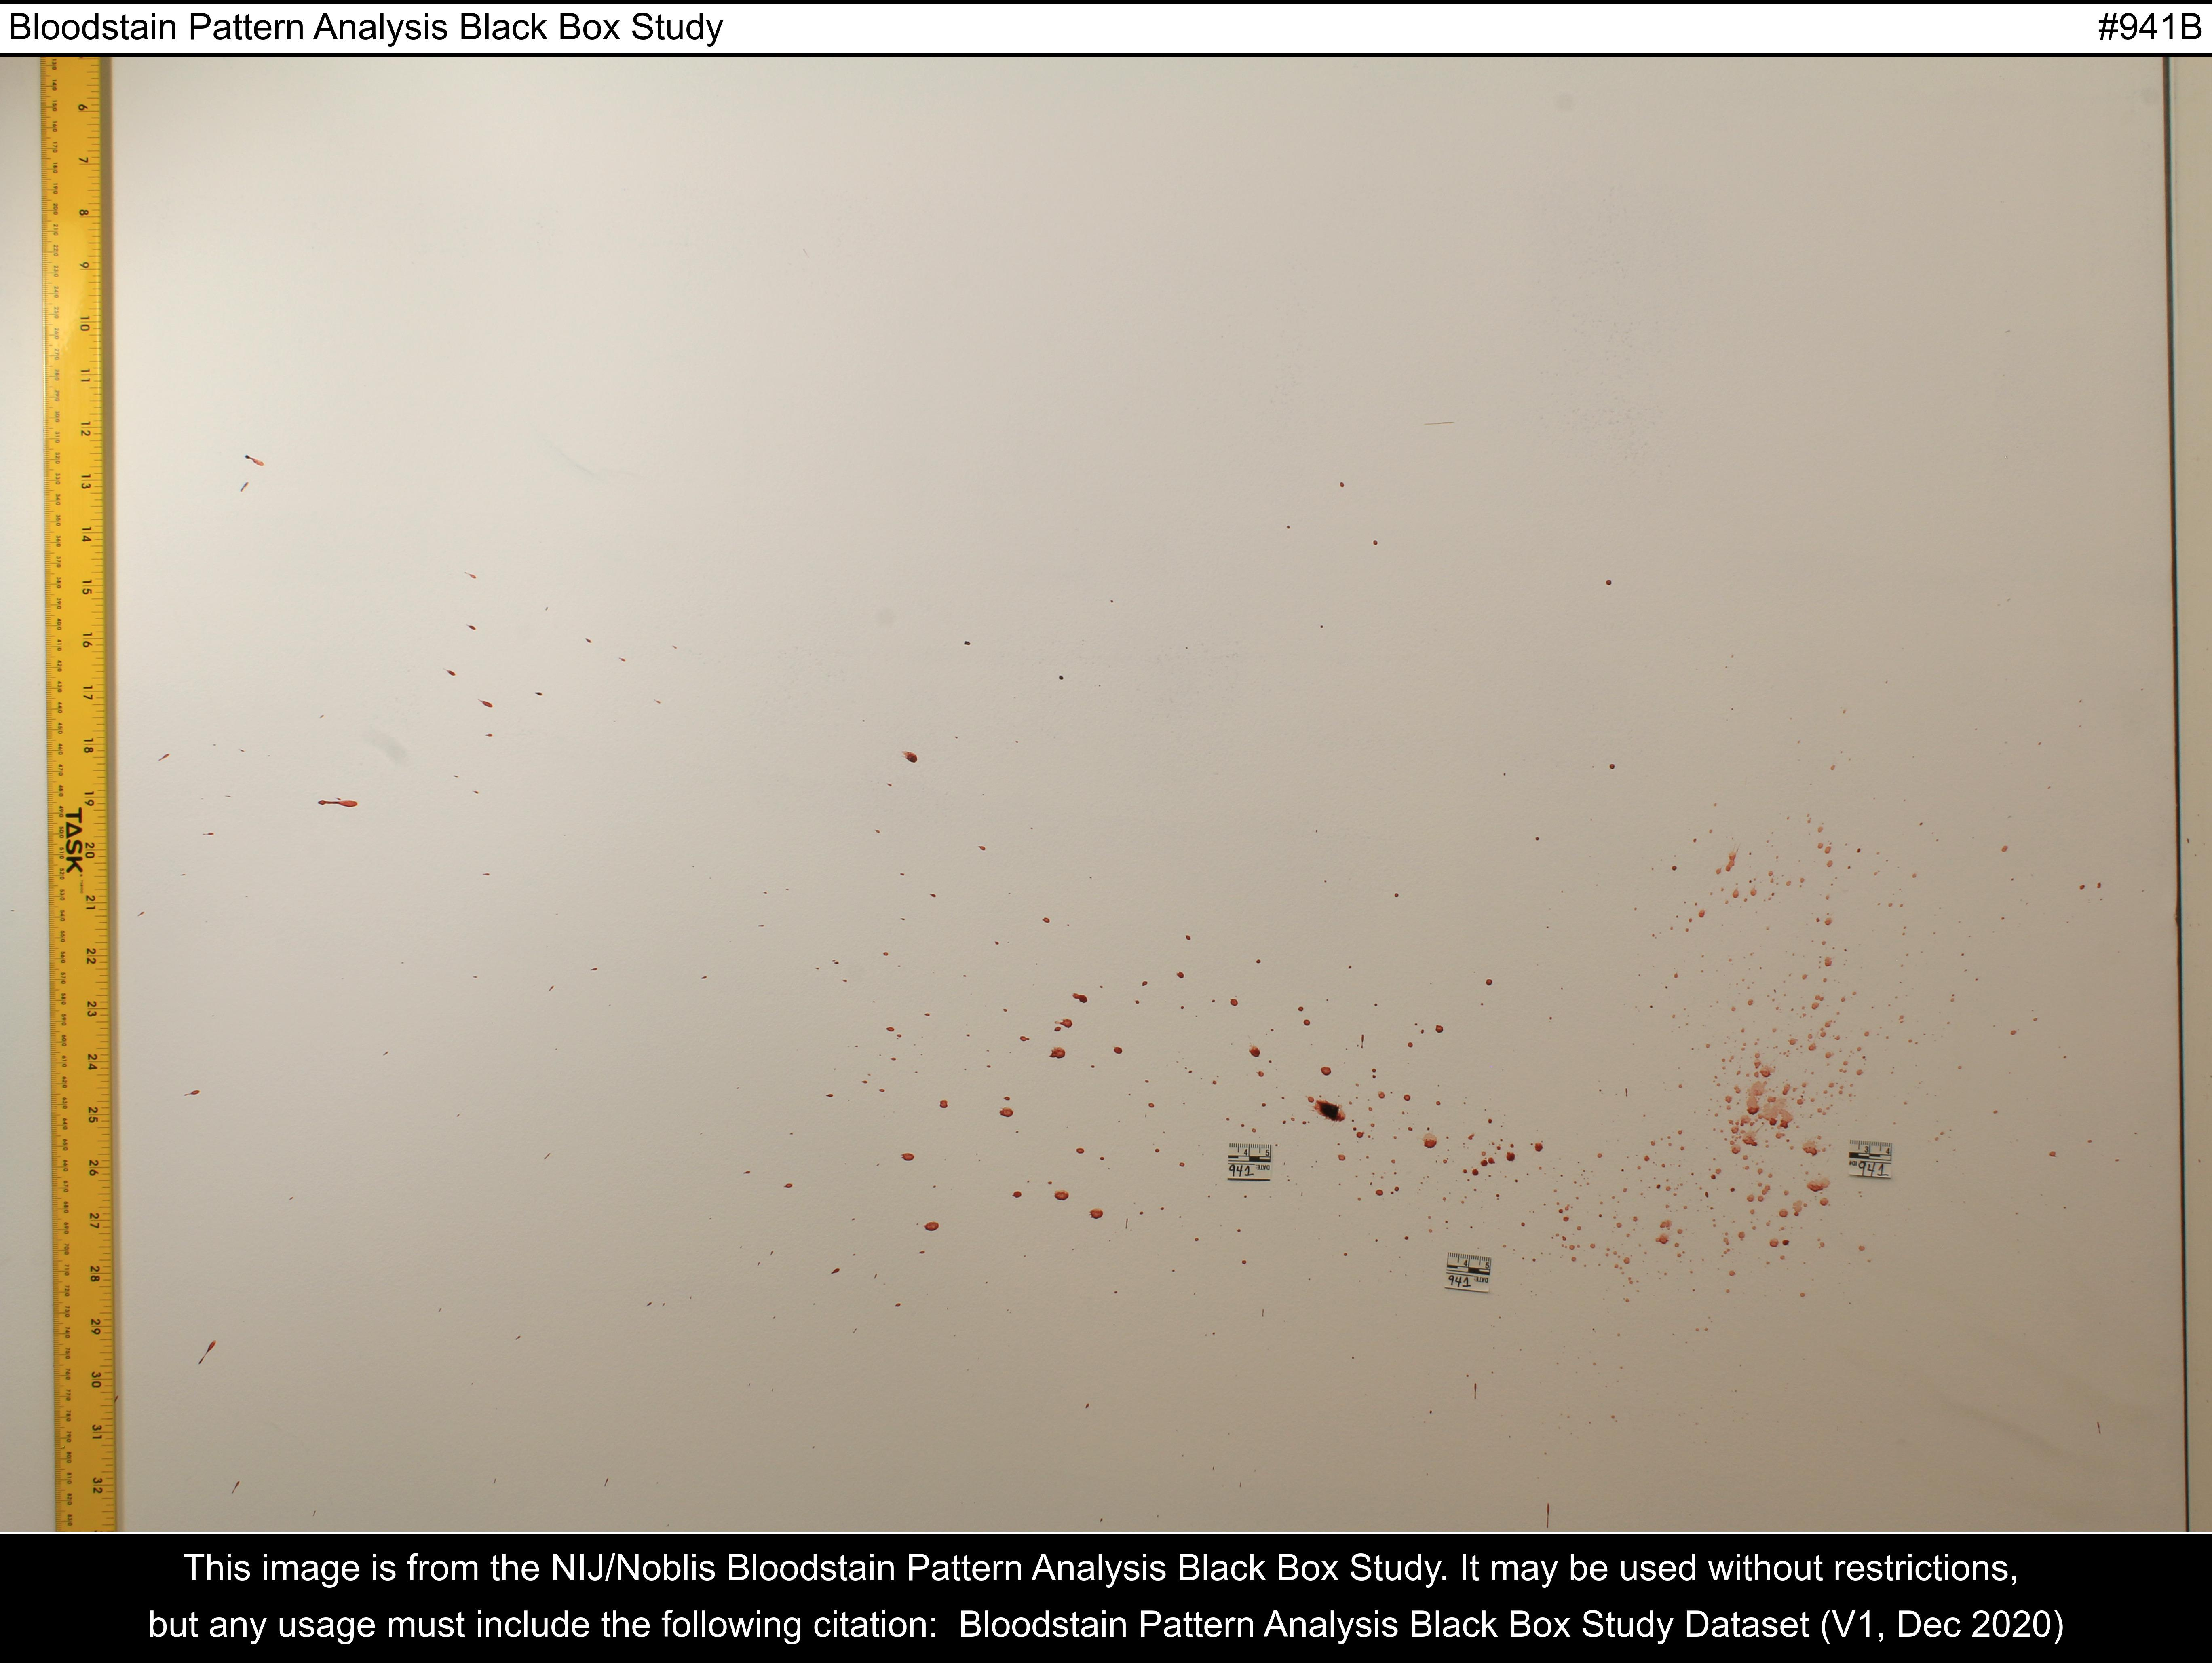Impact: (147, 417, 2177, 1403)
